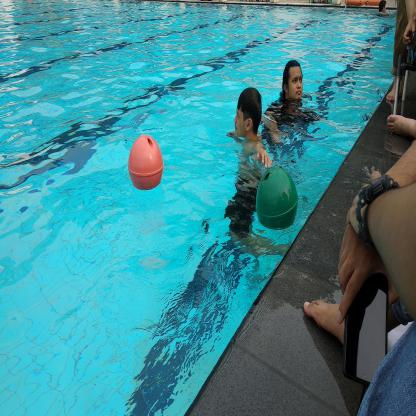green_buoy: (252, 162, 300, 236)
red_buoy: (124, 130, 166, 198)
